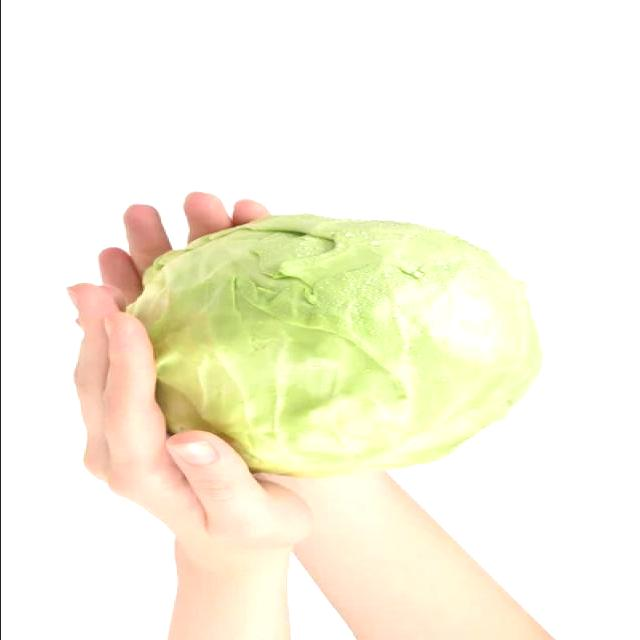cabbage: (116, 213, 548, 481)
